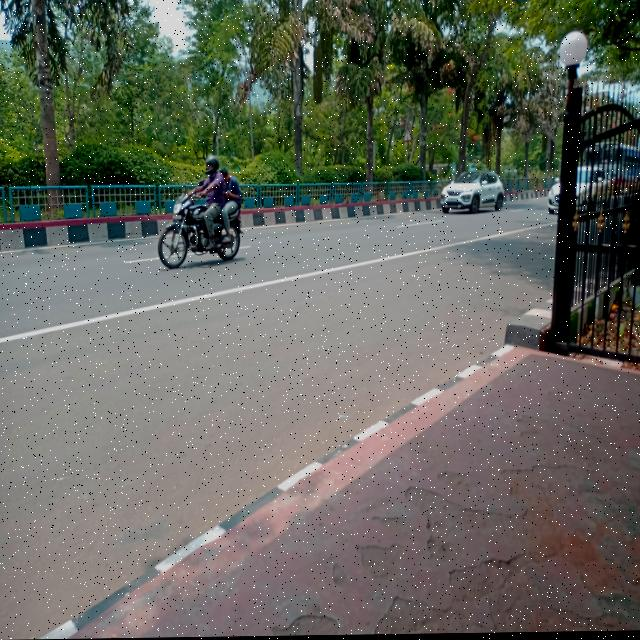bike: (148, 193, 246, 269)
car: (433, 159, 511, 225)
